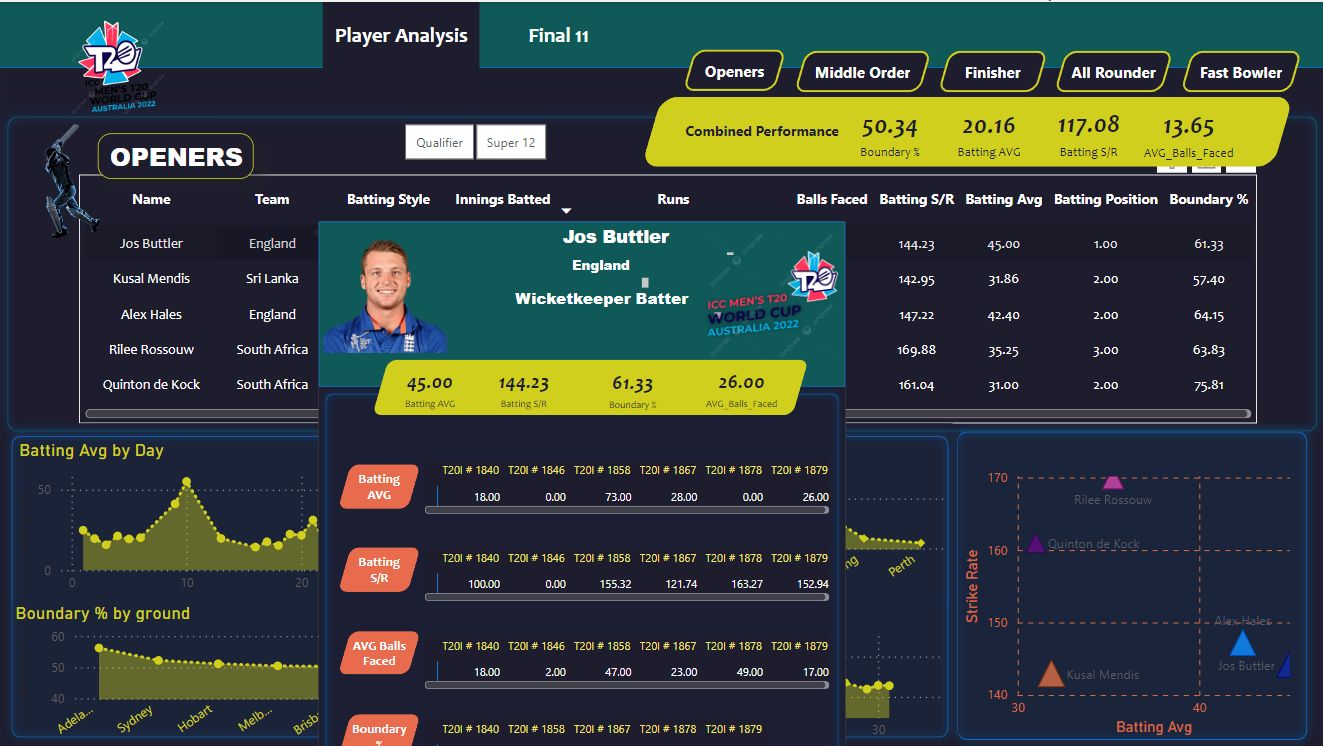

Layout of this report page (visuals, bound fields, positions):
{"tool":"powerbi","page":{"name":"MIDDLE ORDER","canvas":[1280,720],"ordinal":1},"visuals":[{"type":"shape","box":[0,62.5,1280,657.5],"z":0},{"type":"shape","box":[0,91.2,1280,320],"z":1000},{"type":"tableEx","fields":{"Values":["player_info.name","player_info.team","player_info.battingStyle","Key_Measures.Total Innings Batted","Key_Measures.Total Runs","Key_Measures.total balls faced","Key_Measures.Strike Rate","Key_Measures.Batting Avg","Key_Measures.Batting Position","Key_Measures.Boundary %"]},"box":[77.5,166.2,1136.2,240],"z":2000},{"type":"scatterChart","fields":{"Category":["player_info.name"],"X":["Key_Measures.Batting Avg"],"Y":["Key_Measures.Strike Rate"],"Series":["player_info.name"],"Size":["Key_Measures.Total Runs"]},"box":[927.5,432.5,331.2,267.5],"z":3000},{"type":"shape","box":[916.2,406.2,353.8,313.8],"z":4000},{"type":"shape","box":[620,91.2,628.8,67.5],"z":5000},{"type":"card","fields":{"Values":["Key_Measures.Batting Avg"]},"box":[885.6,91.6,140,67.5],"z":6000},{"type":"card","fields":{"Values":["Key_Measures.Strike Rate"]},"box":[985.3,92.2,132.5,66.2],"z":7000},{"type":"card","fields":{"Values":["Key_Measures.Boundary %"]},"box":[793.4,91.6,132.5,67.5],"z":8000},{"type":"card","fields":{"Values":["Key_Measures.AVG_Balls_Faced"]},"box":[1081.2,92.5,132.5,66.2],"z":9000},{"type":"shape","box":[637.5,102.5,196.2,43.8],"z":10000},{"type":"shape","box":[0,406.2,926.2,313.8],"z":11000},{"type":"actionButton","box":[660,46.2,100,40],"z":12000},{"type":"actionButton","box":[766.6,46.6,132.5,40],"z":13000},{"type":"actionButton","box":[905.6,46.9,106.2,40],"z":14000},{"type":"actionButton","box":[1018.4,47.2,115,40],"z":15000},{"type":"actionButton","box":[1140,47.5,117.5,40],"z":16000},{"type":"slicer","fields":{"Values":["match_summary.Stage"]},"box":[365,111.2,186.2,47.5],"z":17000},{"type":"areaChart","fields":{"Y":["Key_Measures.Batting Avg"],"Category":["match_summary.matchDate.Variation.Date Hierarchy.Day"]},"box":[15,422.5,458.8,156.2],"z":18000},{"type":"areaChart","fields":{"Y":["Key_Measures.Strike Rate"],"Category":["match_summary.ground"]},"box":[470,432.5,442.5,156.2],"z":19000},{"type":"areaChart","fields":{"Y":["Key_Measures.Boundary %"],"Category":["match_summary.ground"]},"box":[11.2,578.8,458.8,141.2],"z":20000},{"type":"areaChart","fields":{"Y":["Key_Measures.AVG_Balls_Faced"],"Category":["match_summary.matchDate.Variation.Date Hierarchy.Day"]},"box":[467.5,578.8,446.2,141.2],"z":21000},{"type":"image","box":[58.8,0,111.2,126.2],"z":22000},{"type":"textbox","title":"MIDDLE ORDER","box":[95,126.2,227.5,43.8],"z":23000},{"type":"image","box":[0,111.2,137.5,123.8],"z":24000},{"type":"actionButton","title":"Player Analysis","box":[312.5,0,151.2,63.8],"z":25000},{"type":"actionButton","title":"Player Analysis","box":[463.8,0,151.2,62.5],"z":26000}]}

Visuals, with their boxes in screenshot pixels (x1, y1, x2, y2), scaled from the page's 1280x720 canvas onto the 1323x746 screenshot:
shape: rect(0, 65, 1322, 745)
shape: rect(0, 94, 1322, 426)
tableEx - player_info.name x player_info.team: rect(80, 172, 1254, 421)
scatterChart - player_info.name x Key_Measures.Batting Avg: rect(959, 448, 1301, 725)
shape: rect(947, 421, 1313, 745)
shape: rect(641, 94, 1291, 164)
card - Key_Measures.Batting Avg: rect(915, 95, 1060, 165)
card - Key_Measures.Strike Rate: rect(1018, 96, 1155, 164)
card - Key_Measures.Boundary %: rect(820, 95, 957, 165)
card - Key_Measures.AVG_Balls_Faced: rect(1118, 96, 1254, 164)
shape: rect(659, 106, 862, 152)
shape: rect(0, 421, 957, 745)
actionButton: rect(682, 48, 786, 89)
actionButton: rect(792, 48, 929, 90)
actionButton: rect(936, 49, 1046, 90)
actionButton: rect(1053, 49, 1171, 90)
actionButton: rect(1178, 49, 1300, 91)
slicer - match_summary.Stage: rect(377, 115, 570, 164)
areaChart - Key_Measures.Batting Avg x match_summary.matchDate.Variation.Date Hierarchy.Day: rect(16, 438, 490, 600)
areaChart - Key_Measures.Strike Rate x match_summary.ground: rect(486, 448, 943, 610)
areaChart - Key_Measures.Boundary % x match_summary.ground: rect(12, 600, 486, 745)
areaChart - Key_Measures.AVG_Balls_Faced x match_summary.matchDate.Variation.Date Hierarchy.Day: rect(483, 600, 944, 745)
image: rect(61, 0, 176, 131)
"MIDDLE ORDER" textbox: rect(98, 131, 333, 176)
image: rect(0, 115, 142, 243)
"Player Analysis" actionButton: rect(323, 0, 479, 66)
"Player Analysis" actionButton: rect(479, 0, 636, 65)
